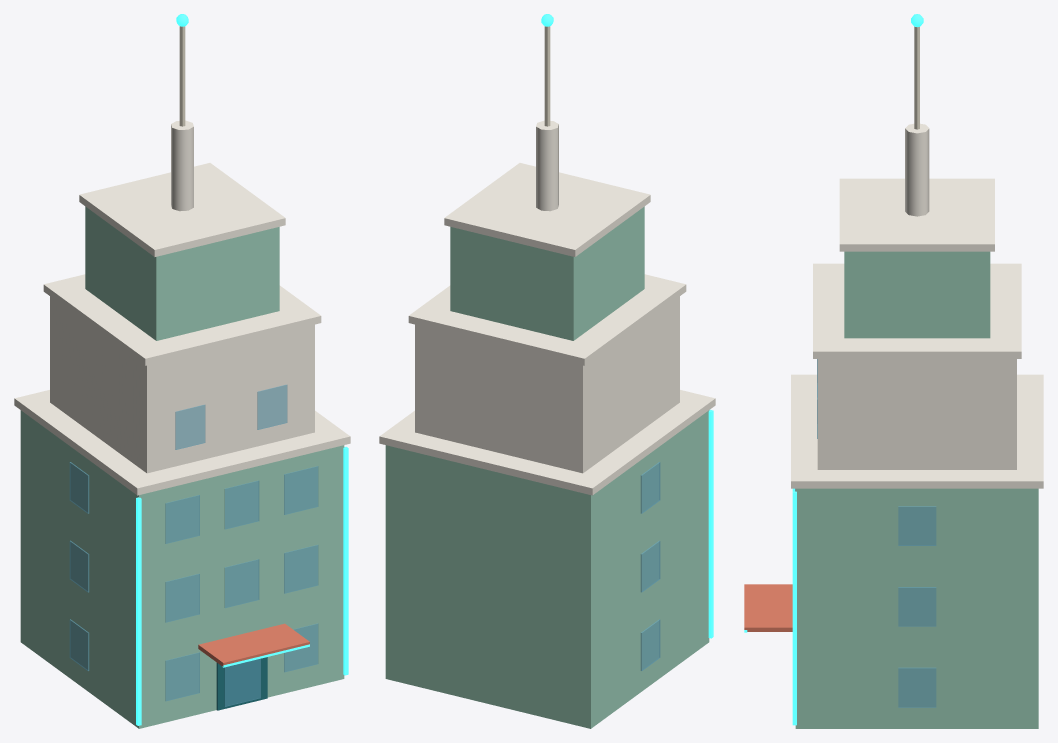
Rendered from lod_deco_tower.glb.
3 renders of one model, left to right at view 1: azimuth 30°, elevation 25°; view 2: azimuth 150°, elevation 25°; view 3: azimuth 270°, elevation 25°, orthographic. The views are drawn at different scales.
Parts seen in each view (by area): view 1: lod_deco_tower; view 2: lod_deco_tower; view 3: lod_deco_tower.
Part boxes in pixels (bbox=[...]): lod_deco_tower: bbox=[14, 14, 350, 728]; lod_deco_tower: bbox=[379, 14, 715, 728]; lod_deco_tower: bbox=[744, 14, 1043, 728].
Bounding box in the file's own units: 9.35 × 27.1 × 11.08.
